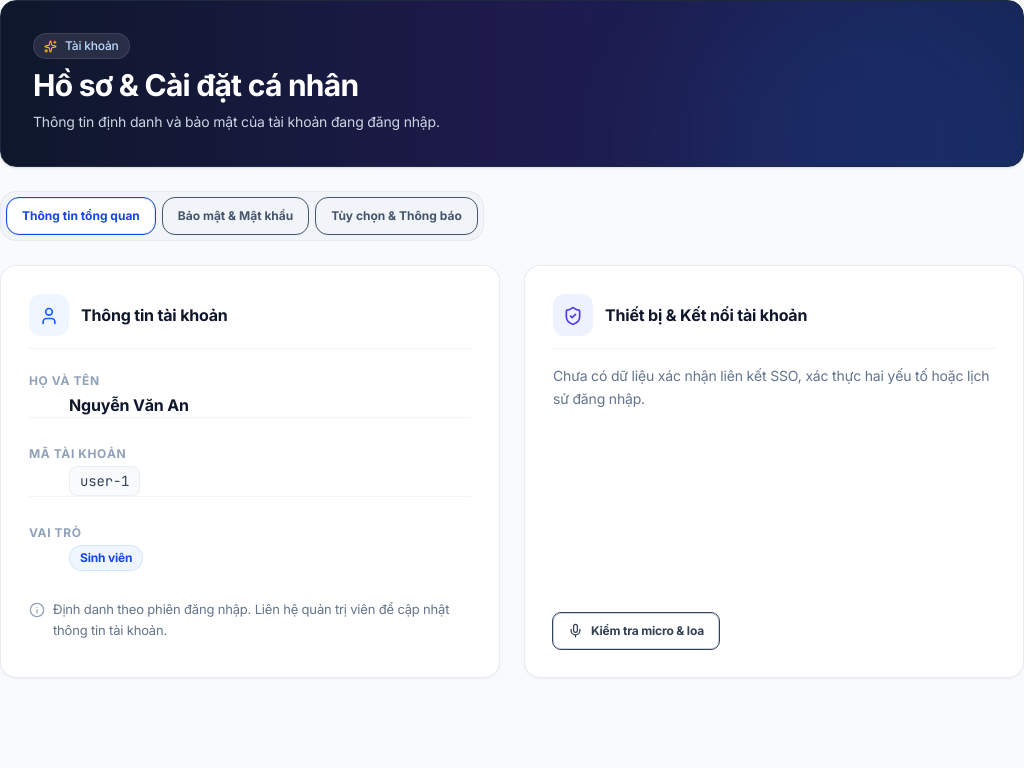
it: ProfilePage authority and persistence › preserves API password inputs and displays failures from the backend
Click the button "Bảo mật & Mật khẩu" at point(236, 216), box [163,198,308,234]
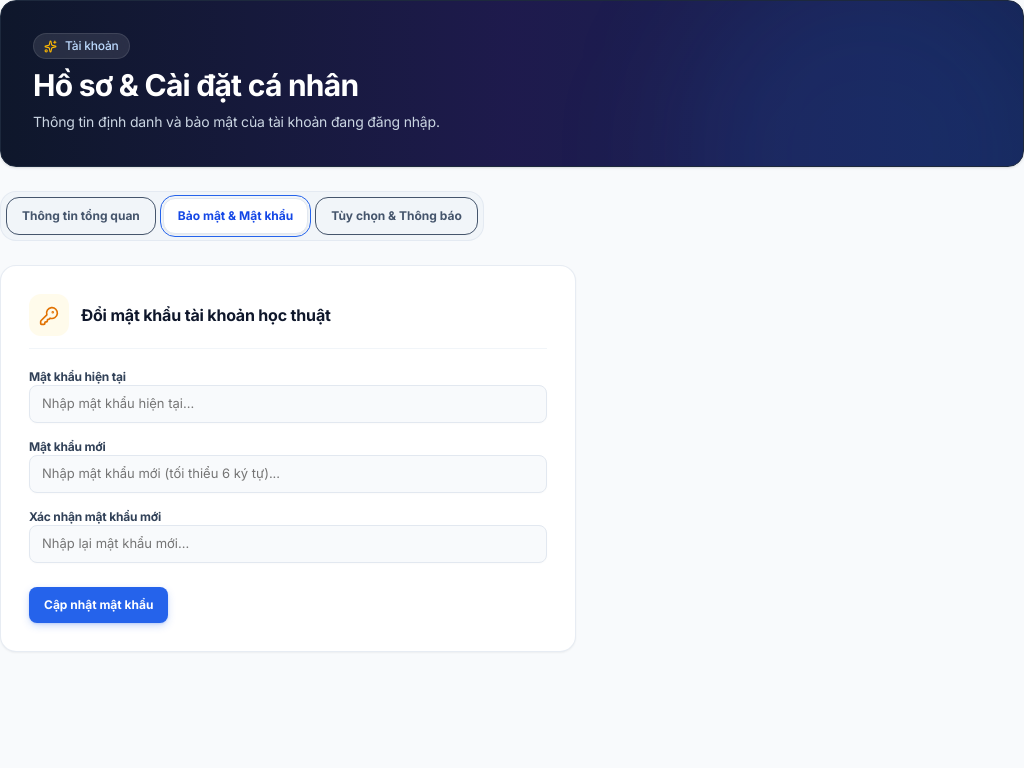
Type "old-secret" into the password field labelled "Mật khẩu hiện tại" at point(288, 404), box [29,385,547,423]
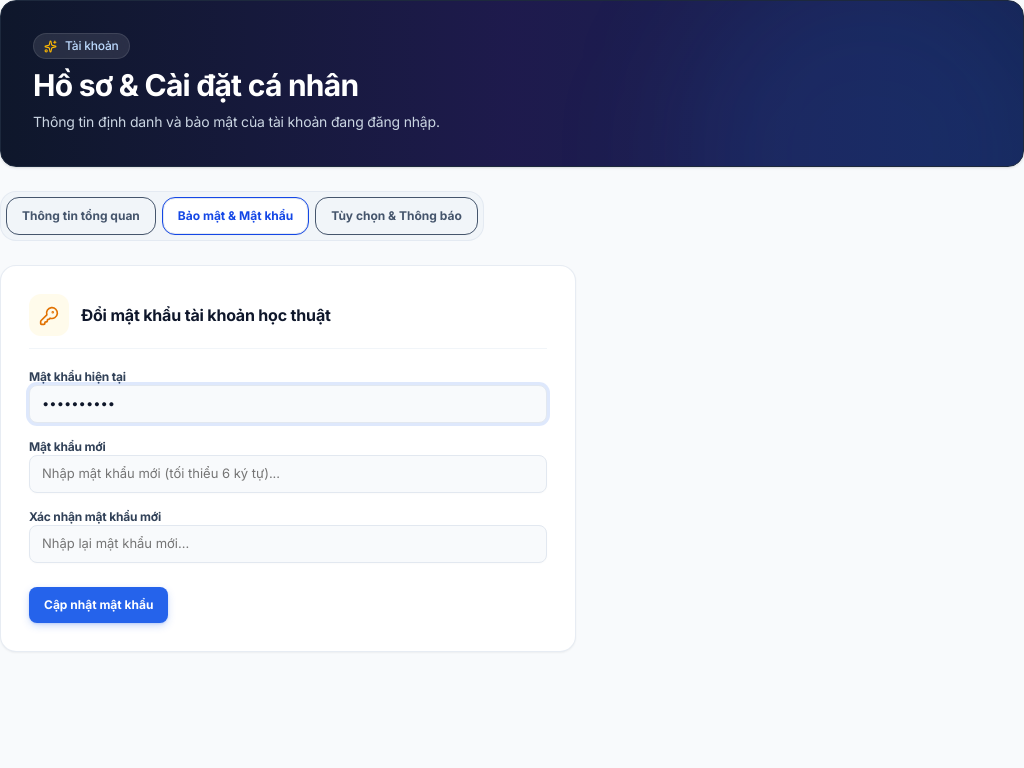
Type "new-secret" into the password field labelled "Mật khẩu mới" at point(288, 474), box [29,455,547,493]
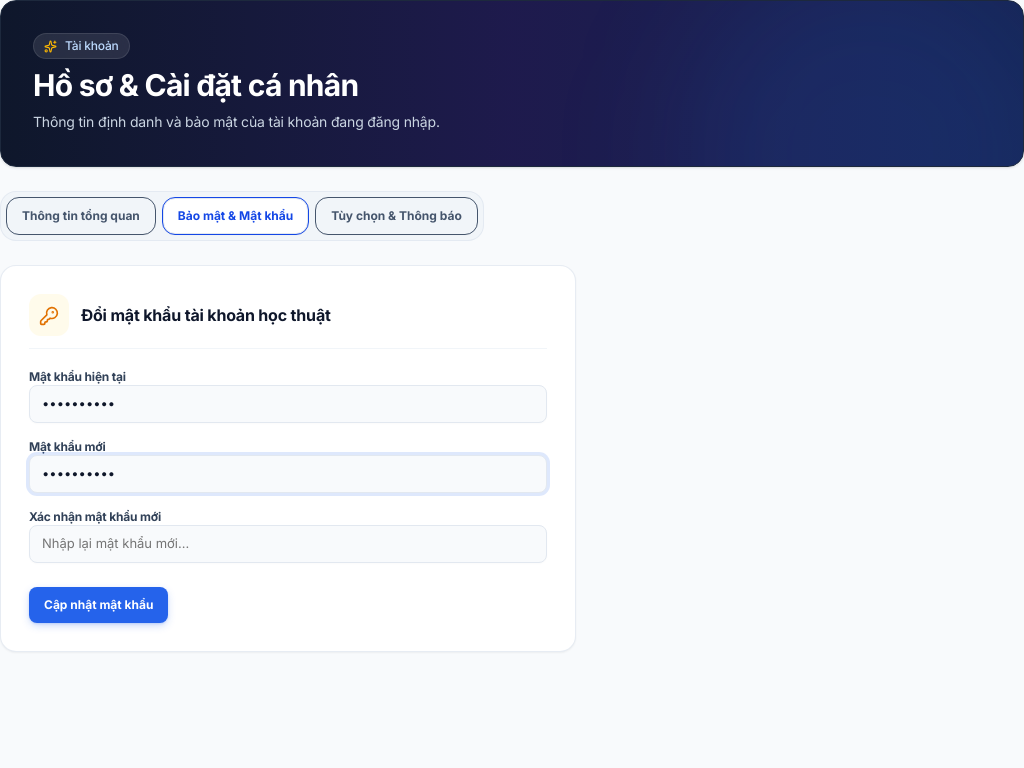
Type "new-secret" into the password field labelled "Xác nhận mật khẩu mới" at point(288, 544), box [29,525,547,563]
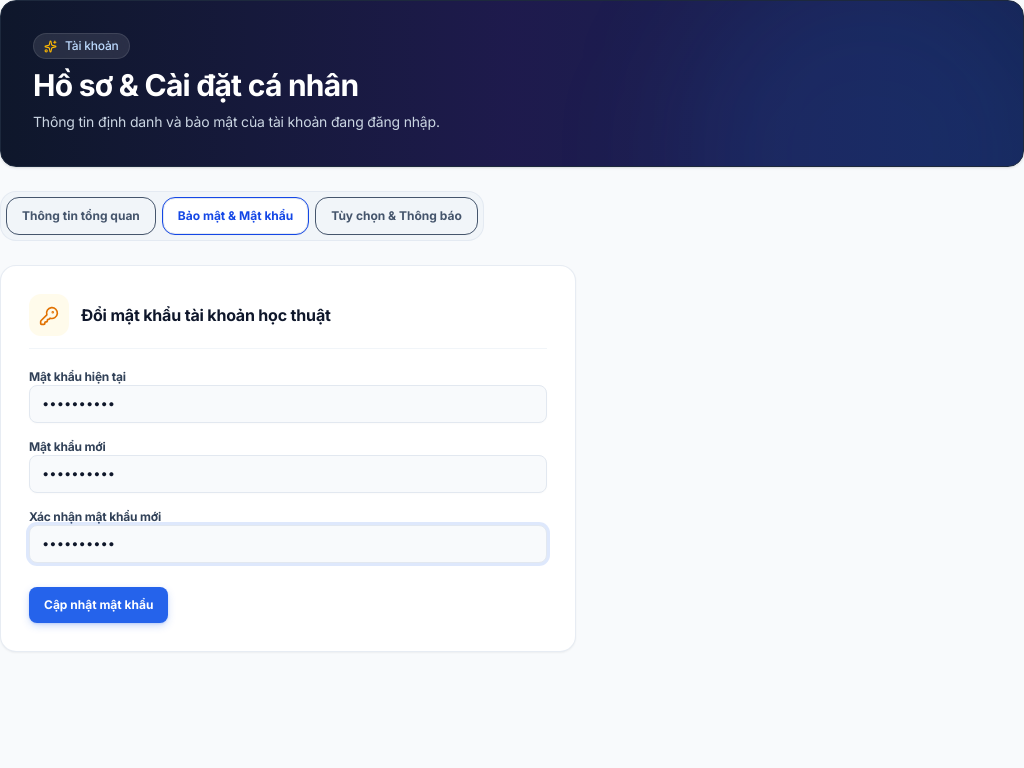
Click the button "Cập nhật mật khẩu" at point(99, 605), box [29,587,168,623]
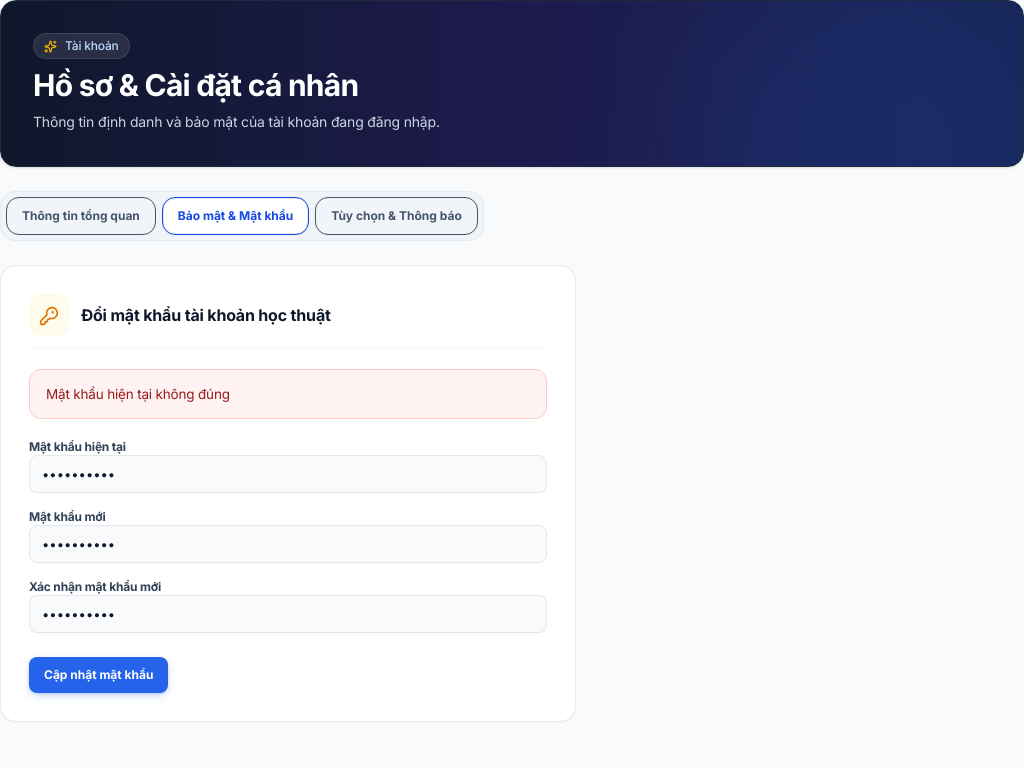
Expected: the text "Mật khẩu hiện tại không đúng" is shown, [29,369,547,419]
